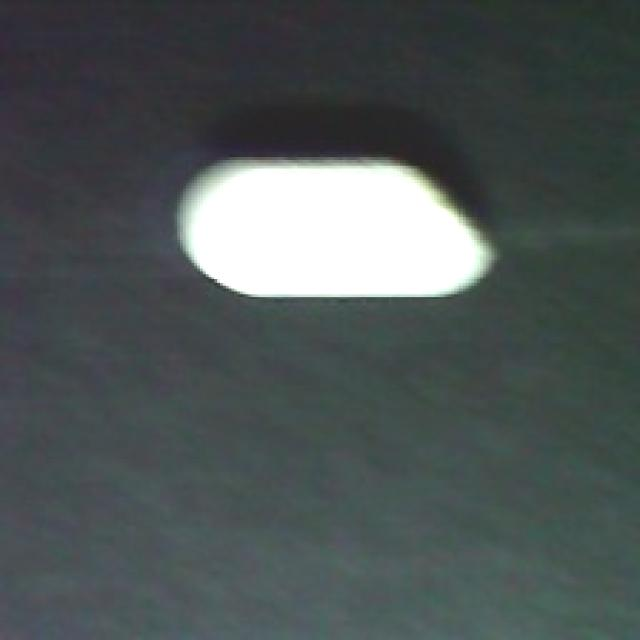defected: (169, 151, 506, 311)
